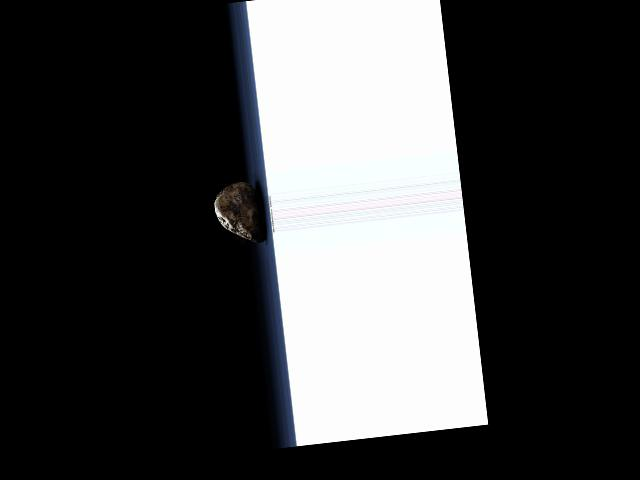beet: (212, 178, 265, 246)
